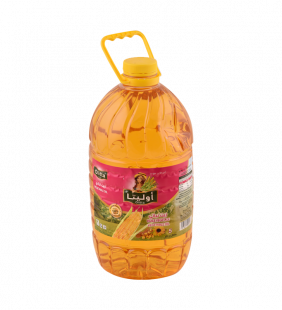OLITTA: (83, 25, 199, 285)
